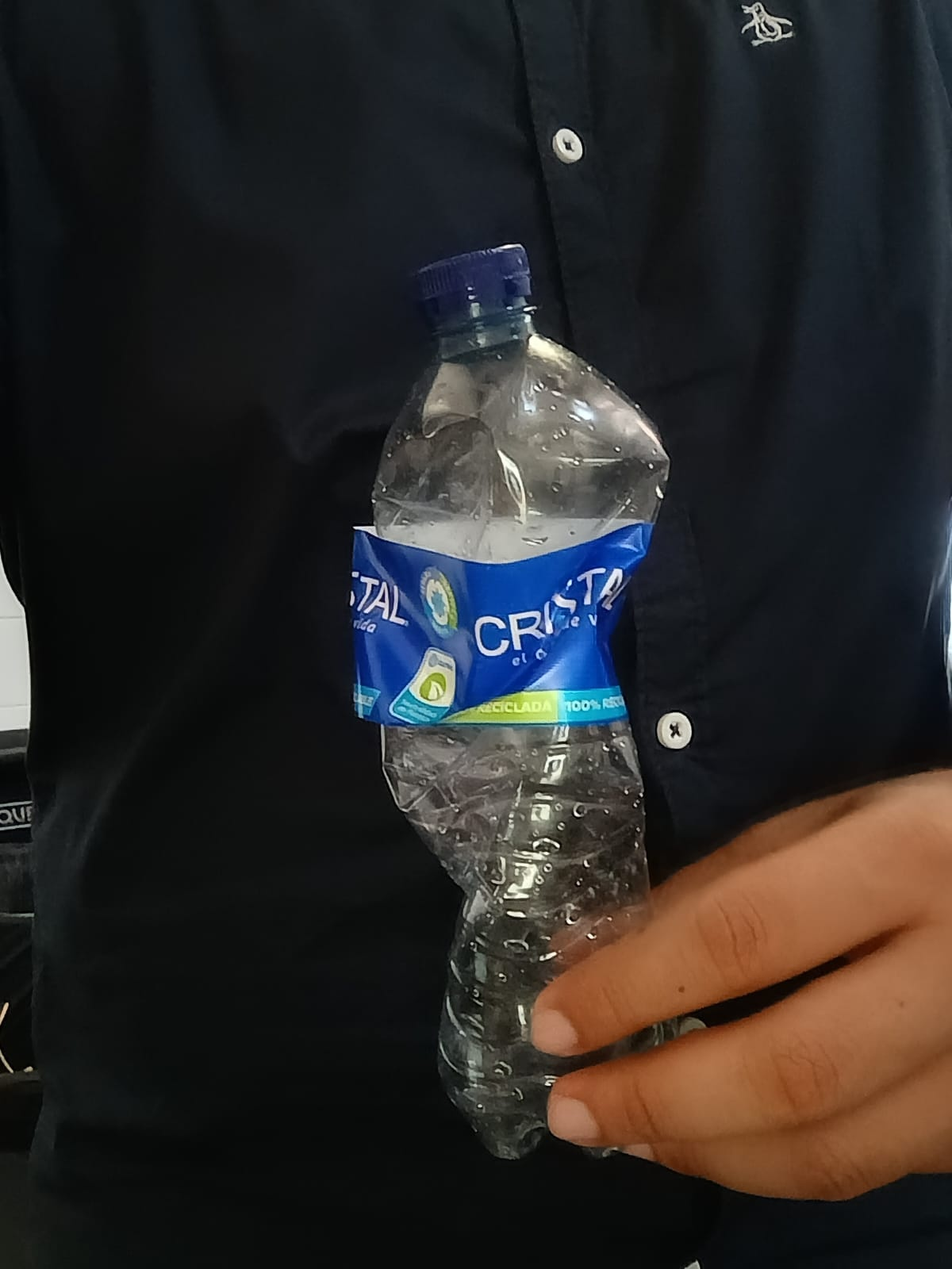Plastico: (345, 251, 674, 1156)
